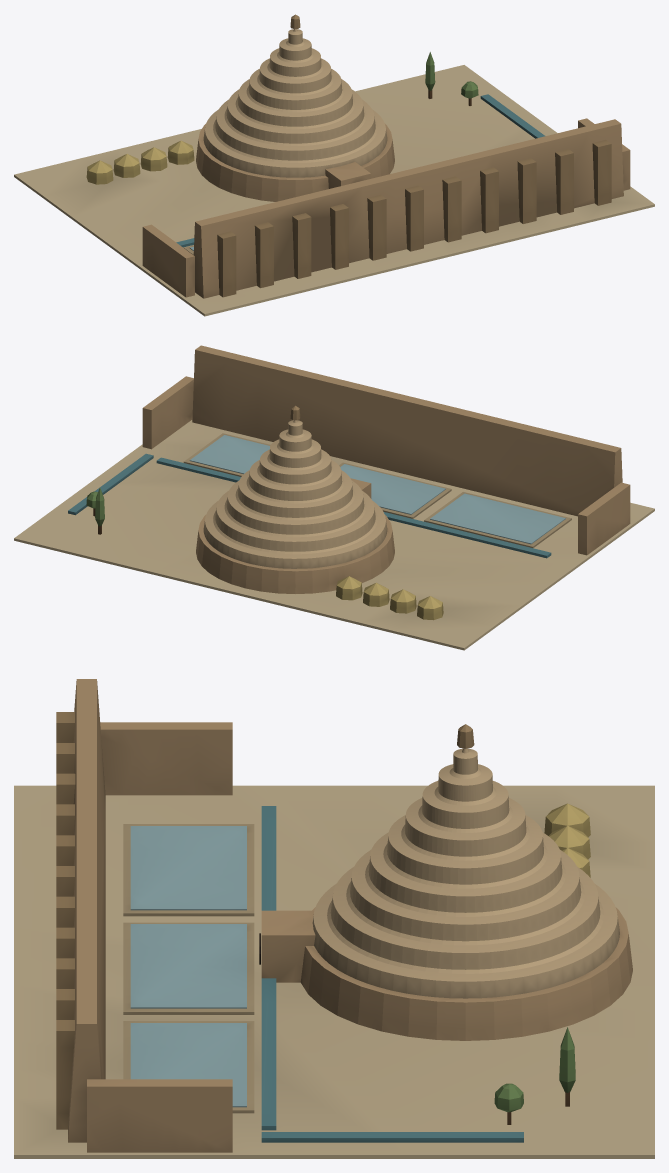
The model's file is yakhdan.glb.
The picture shows the model from 3 angles, top to bottom: view 1: azimuth 30°, elevation 25°; view 2: azimuth 150°, elevation 25°; view 3: azimuth 270°, elevation 25°; orthographic projection. The views are drawn at different scales.
Parts seen in each view (by area): view 1: p1_shade wall, p0_pools, p2_dome; view 2: p0_pools, p1_shade wall, p2_dome; view 3: p0_pools, p2_dome, p1_shade wall.
Part boxes in pixels (x1,y1,x2,y2): p1_shade wall: [142, 118, 630, 298]; p0_pools: [14, 65, 654, 316]; p2_dome: [86, 14, 478, 201]; p0_pools: [14, 420, 654, 650]; p1_shade wall: [142, 345, 630, 555]; p2_dome: [86, 405, 443, 620]; p0_pools: [14, 785, 654, 1158]; p2_dome: [259, 724, 632, 1124]; p1_shade wall: [56, 679, 232, 1152].
Bounding box in the file's own units: 60 × 18.95 × 44.
